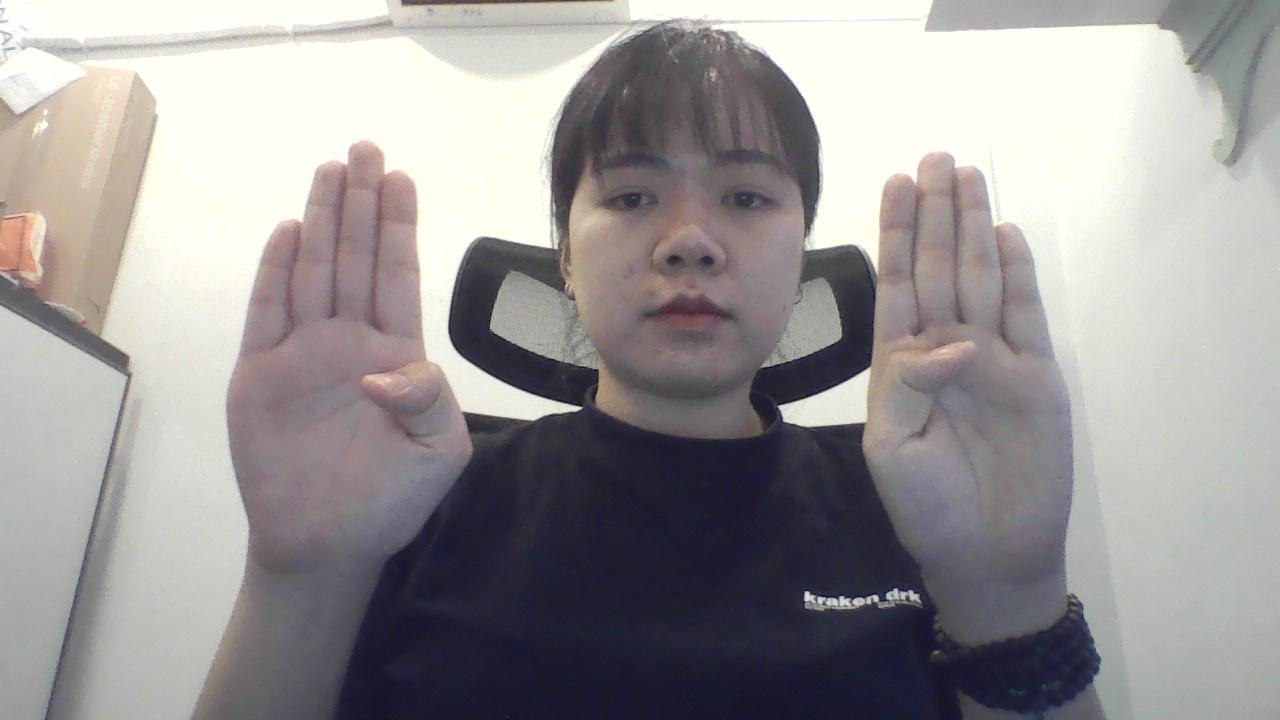B: (217, 120, 484, 606), (841, 126, 1092, 635)
